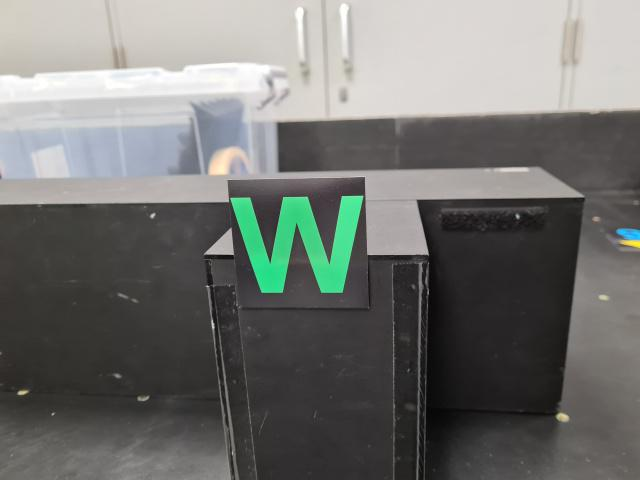w: (225, 174, 369, 311)
